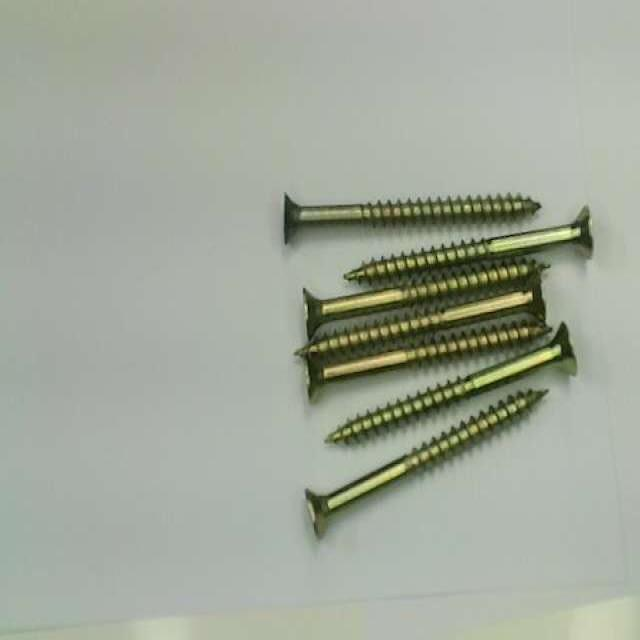Parafuso: (306, 389, 546, 536), (328, 323, 576, 443), (295, 272, 545, 363), (345, 207, 590, 280), (303, 263, 538, 337), (308, 329, 519, 393), (285, 193, 539, 243)
